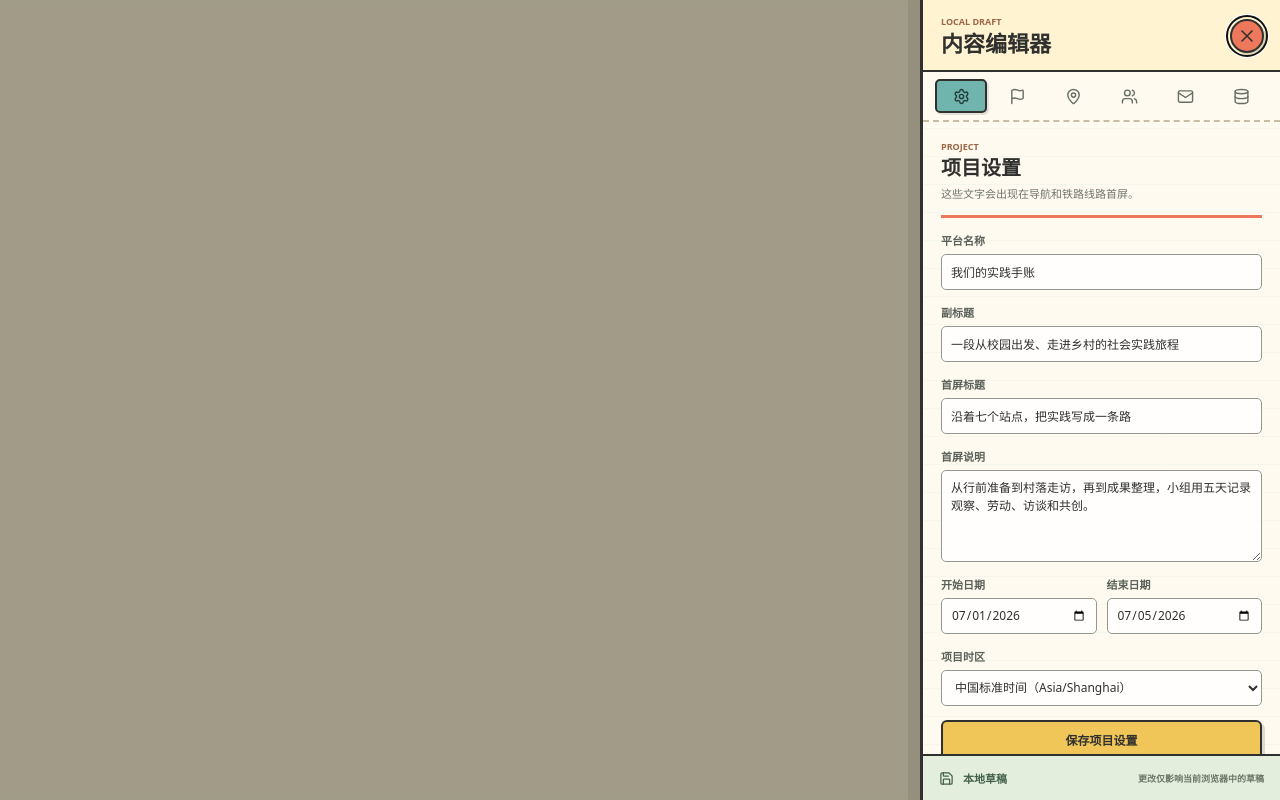
Test: restores an incomplete local buffer under StrictMode
Click the tab named "活动管理".
click(1073, 96)  # box [1047,79,1100,113]
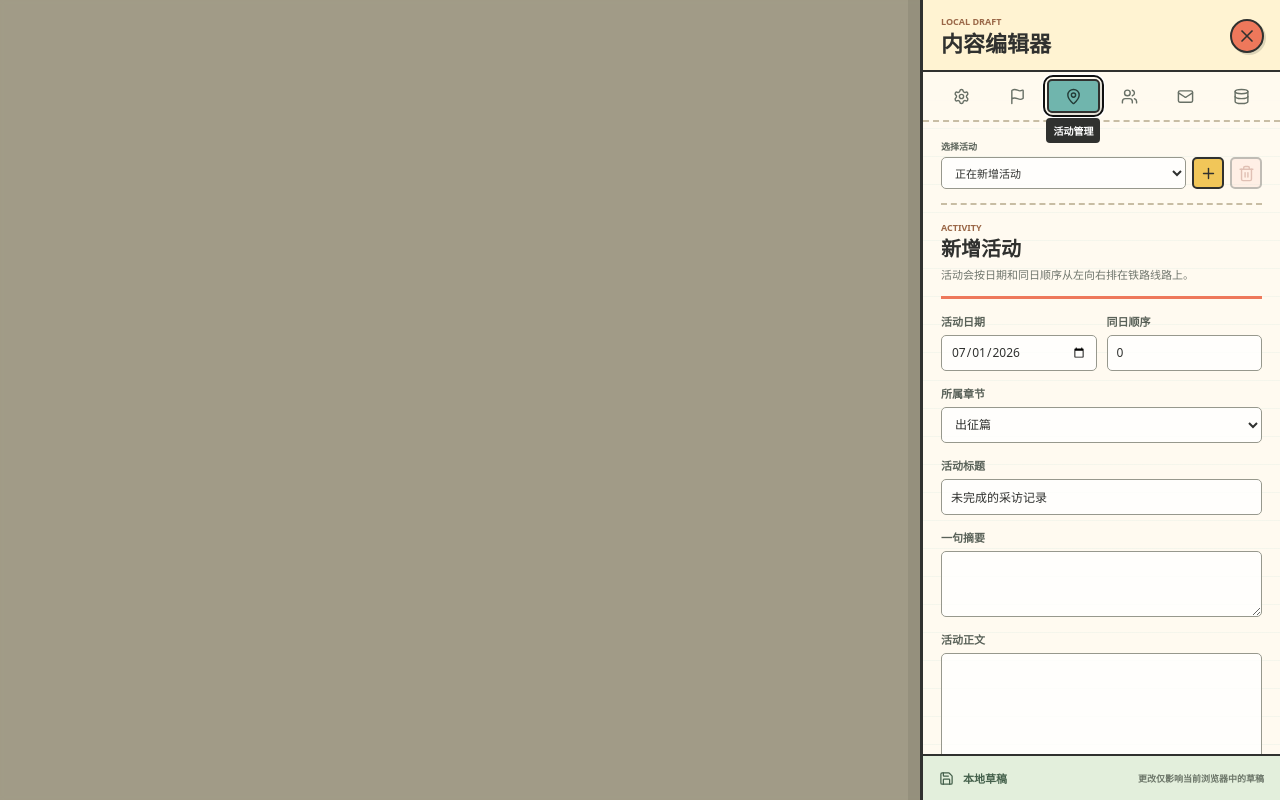
Check: the field labelled "活动标题" holds "未完成的采访记录", box [941,479,1262,515]
